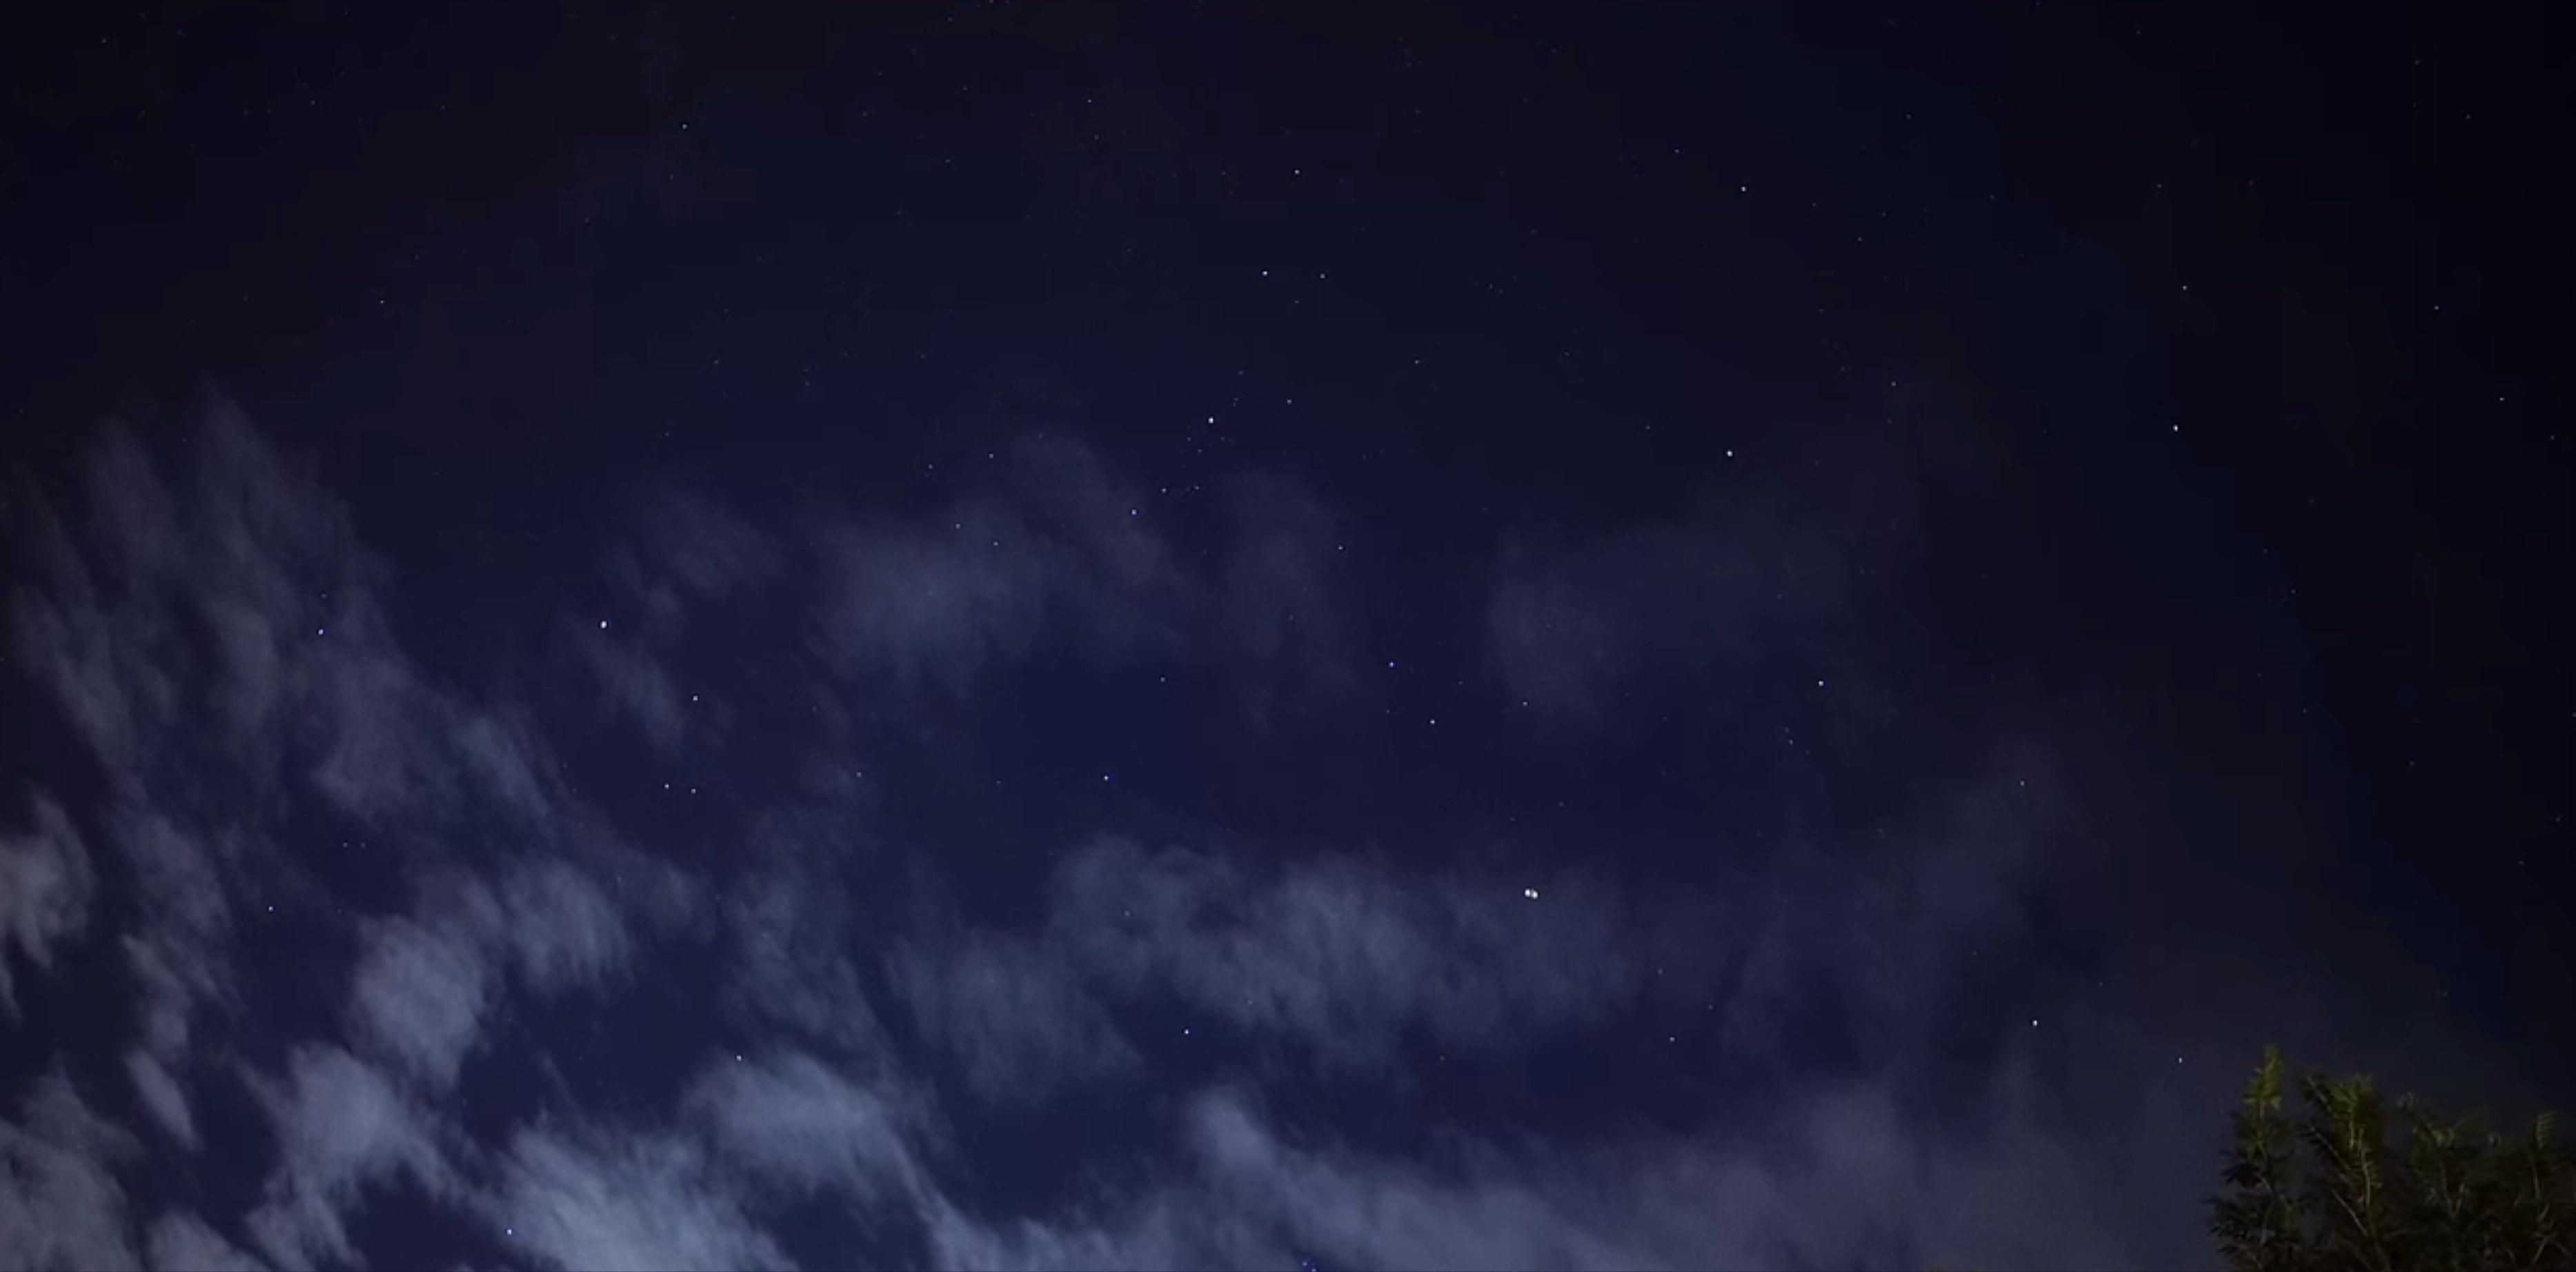Plane: (1510, 871, 1556, 917)
